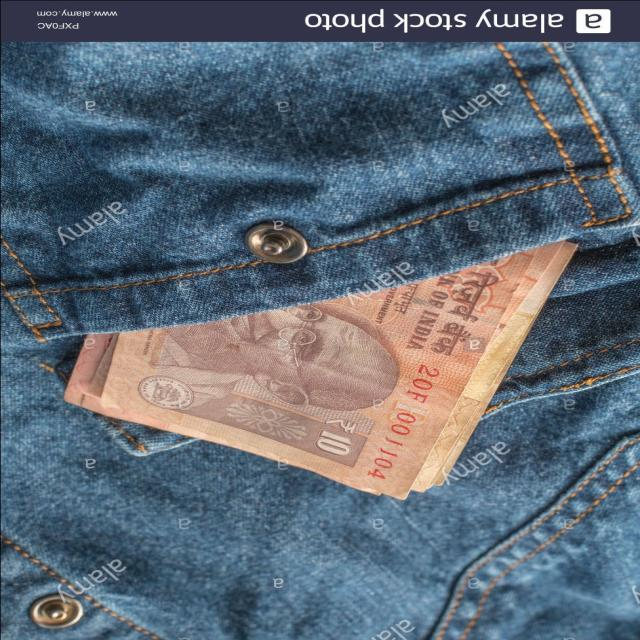10IndianRupees: (96, 256, 569, 492)
